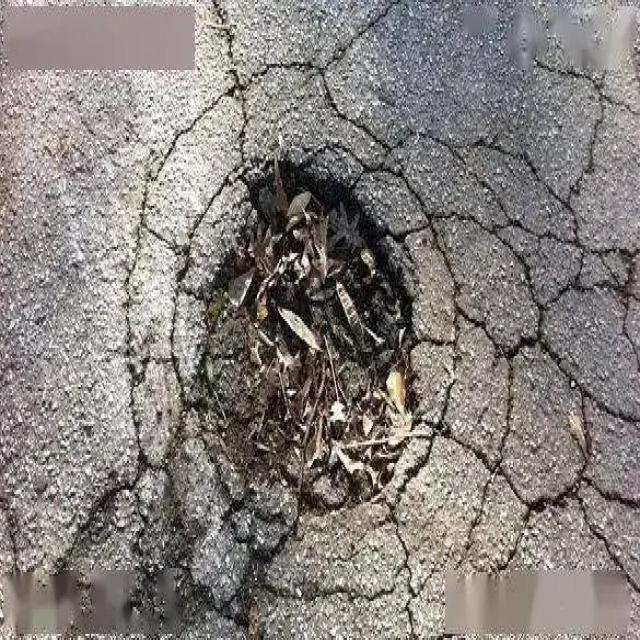Pothole: (166, 142, 436, 527)
